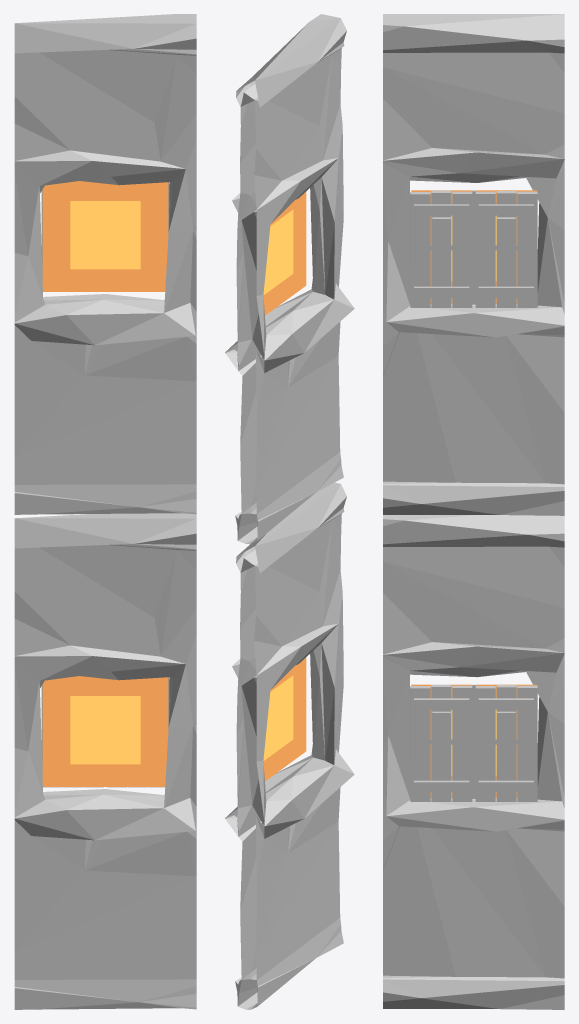
The model's file is wall.wood.window_tall.glb.
3 views of the same model, side by side, from view 1: azimuth 90°, elevation 25°; view 2: azimuth 150°, elevation 25°; view 3: azimuth 270°, elevation 25° (orthographic). The views are drawn at different scales.
Parts seen in each view (by area): view 1: window, glow; view 2: window, glow; view 3: window, shutter_b, shutter_a, glow.
Boxes of the visible parts, <box> form: window: <box>14,14,196,1009</box>; glow: <box>42,181,168,786</box>; window: <box>225,14,354,1009</box>; glow: <box>263,192,306,781</box>; window: <box>383,14,564,1009</box>; shutter_b: <box>410,684,472,801</box>; shutter_a: <box>475,685,537,801</box>; glow: <box>411,190,536,798</box>.
Bounding box in the file's own units: 0.3 × 6 × 1.
